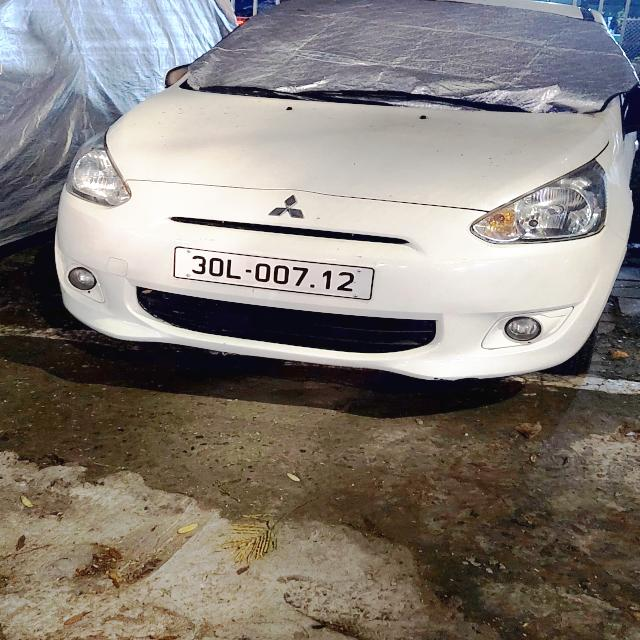license_plate: (170, 244, 374, 300)
